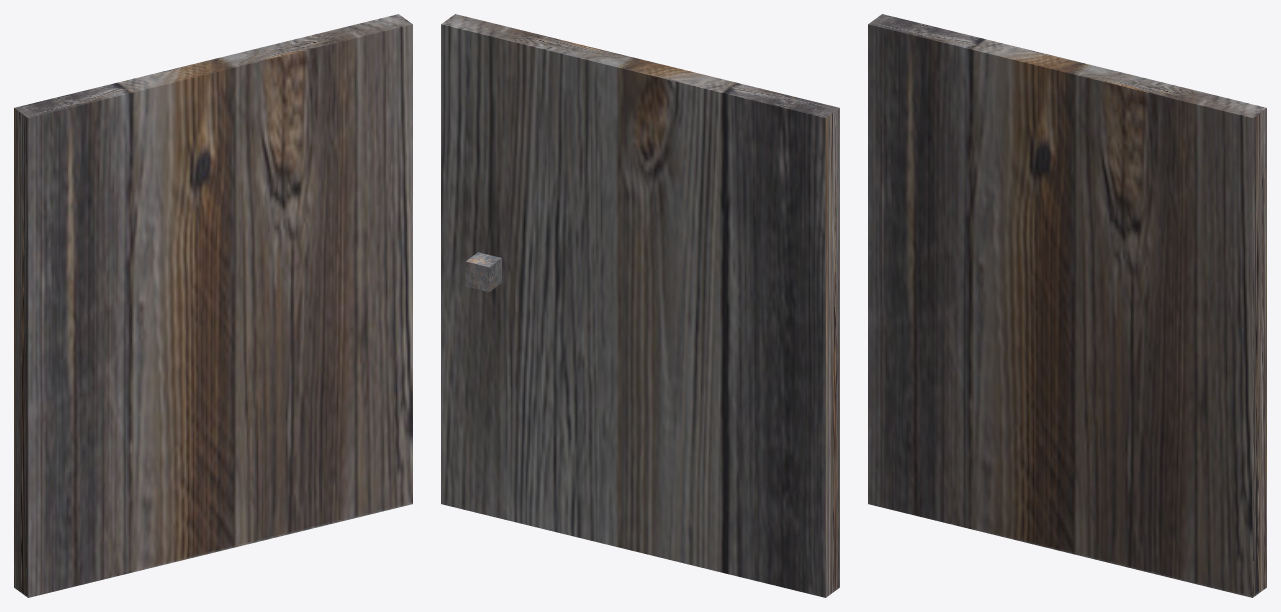
The model's file is Deur.fbx.
3 renders of one model, left to right at view 1: azimuth 30°, elevation 25°; view 2: azimuth 150°, elevation 25°; view 3: azimuth 330°, elevation 25°, orthographic.
Parts seen in each view (by area): view 1: pCube6; view 2: pCube6; view 3: pCube6.
Boxes of the visible parts, bbox=[...] form: pCube6: bbox=[14, 14, 412, 597]; pCube6: bbox=[441, 14, 839, 597]; pCube6: bbox=[868, 14, 1266, 597].
Size of the model in its own units: 1.14 by 1.36 by 0.1377.
2 materials, 2 textured.
